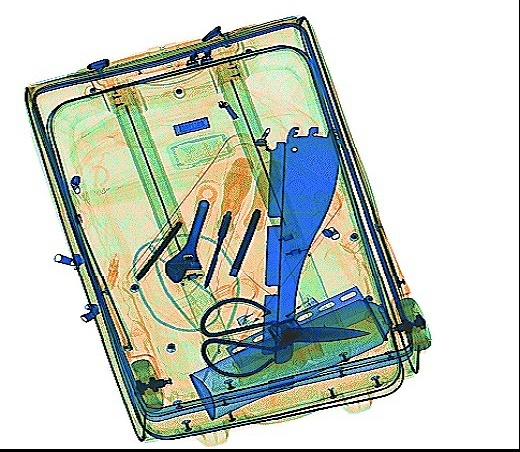lighter: (273, 294, 320, 339), (235, 286, 283, 329)
pressure: (188, 294, 393, 420)
scissors: (198, 294, 371, 378)
